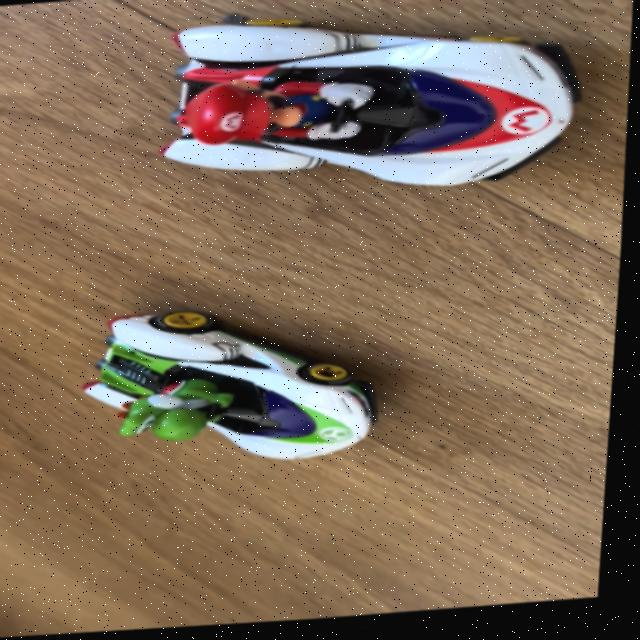mario: (145, 0, 611, 214)
yoshi: (72, 305, 403, 485)
